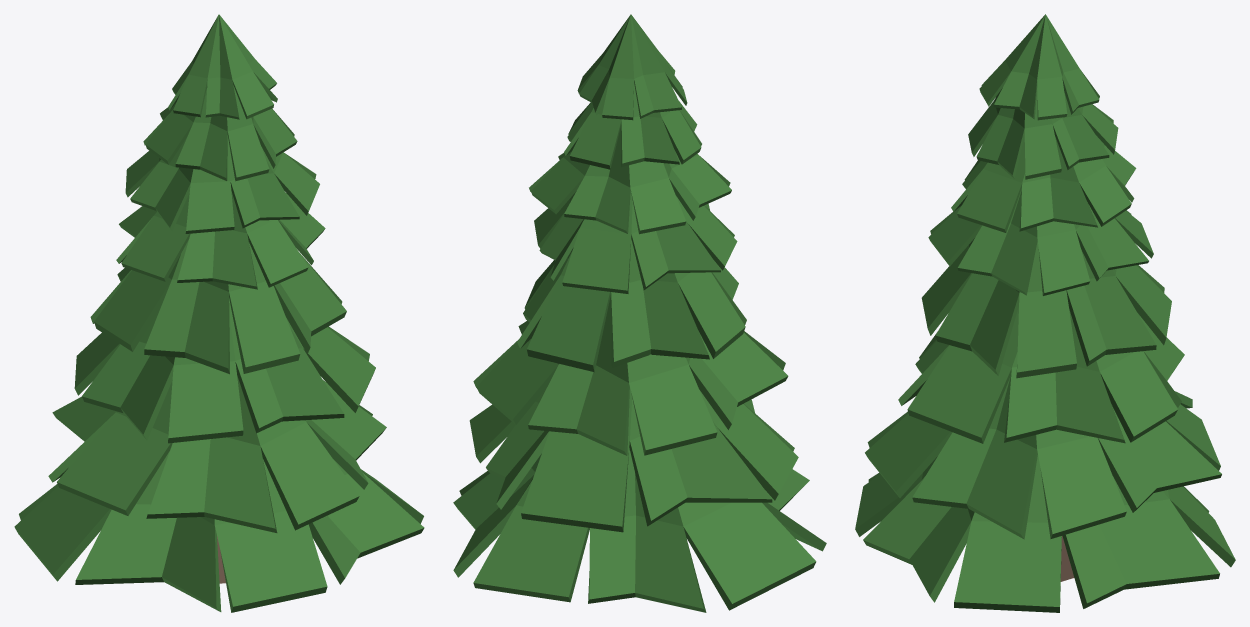
File: spruce_2.fbx
3 renders of one model, left to right at view 1: azimuth 30°, elevation 25°; view 2: azimuth 150°, elevation 25°; view 3: azimuth 270°, elevation 25°, orthographic.
Visible parts, largest first — view 1: spruce_2; view 2: spruce_2; view 3: spruce_2.
Part boxes in pixels (left/top/right/bottom): spruce_2: left=14, top=14, right=424, bottom=612; spruce_2: left=453, top=14, right=826, bottom=612; spruce_2: left=855, top=14, right=1235, bottom=612.
Size of the model in its own units: 551 by 859 by 533.
